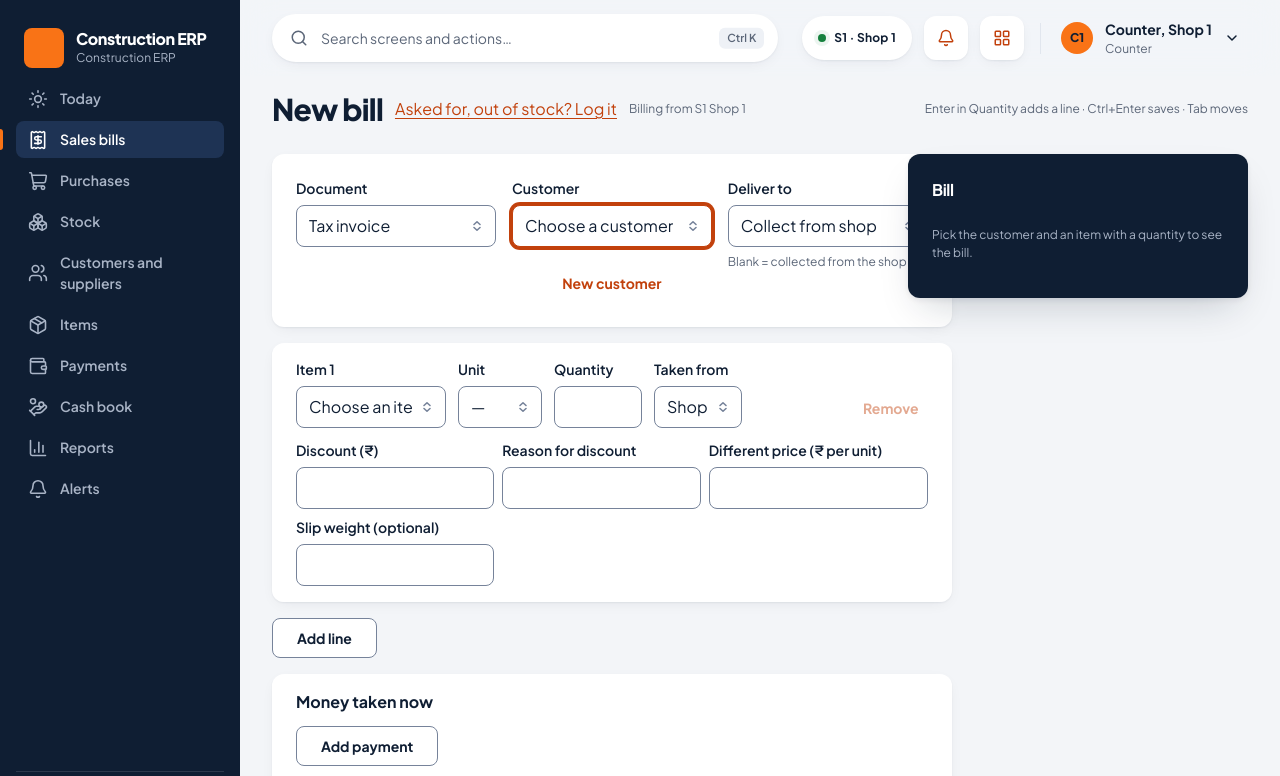
it: Quotations and proforma invoices › saves a quotation without payments, through the quotation endpoints
Select "Quotation (estimate)" in the dropdown labelled "Document" at (396, 226), box [296,205,496,247]
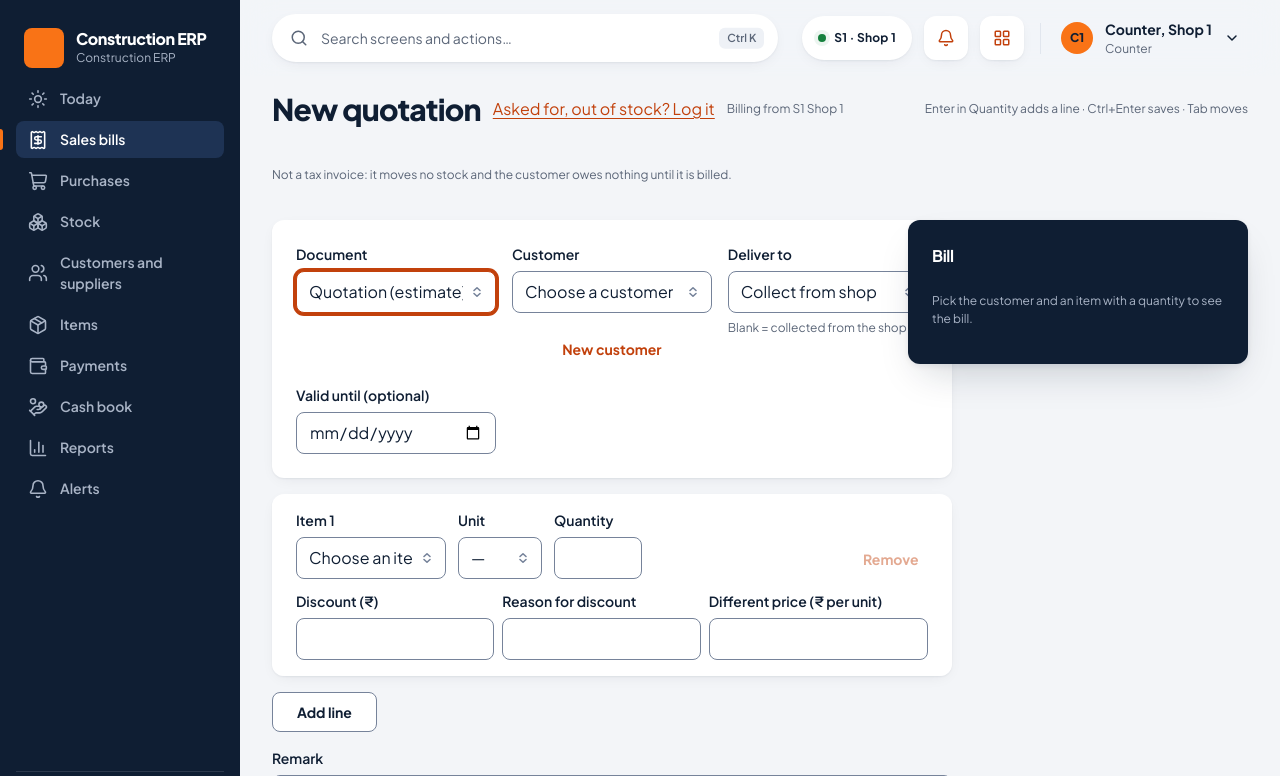
Now the heading "New quotation" is shown, box [272,92,481,126]
Now the button "Add payment" is gone
Now the label labelled "Taken from" is gone
Select "Ravi Builders" in the dropdown labelled "Customer" at (612, 292), box [512,271,712,313]
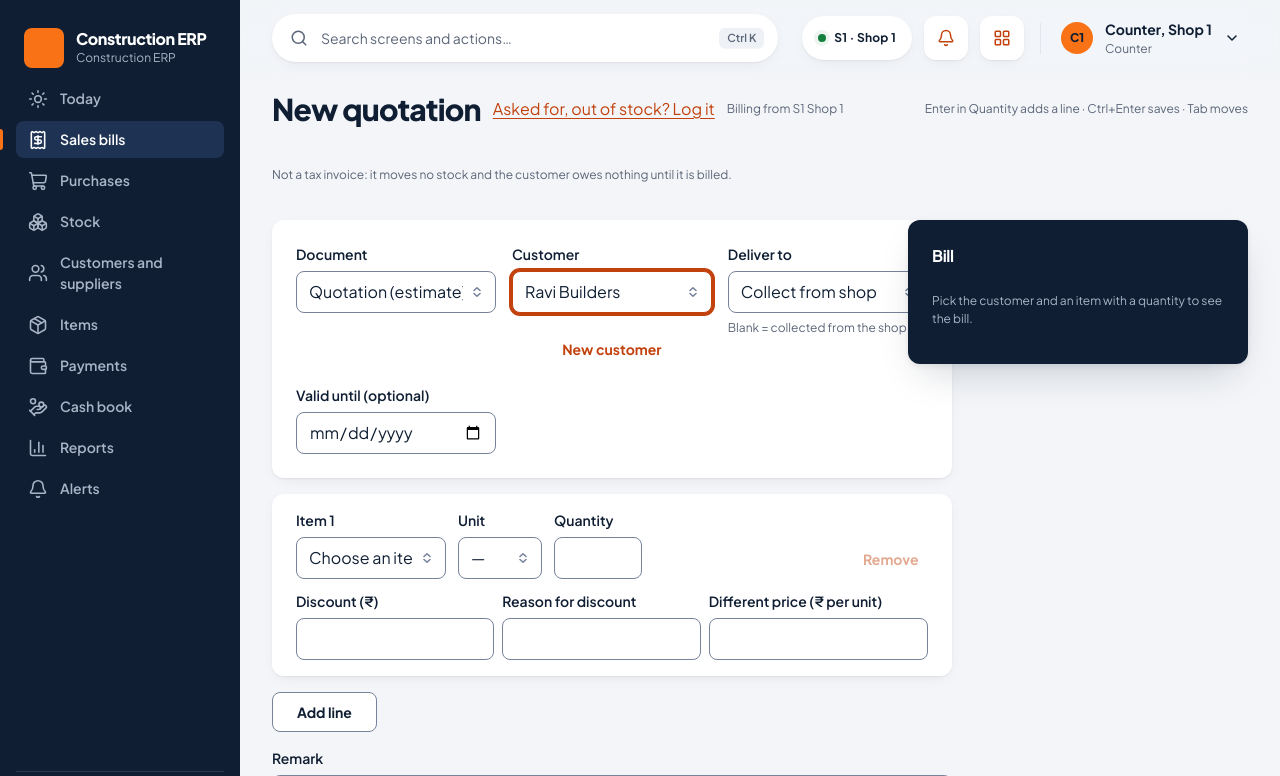
Select "TMT bar 12 mm Fe500D" in the dropdown labelled "Item 1" at (371, 558), box [296,537,446,579]
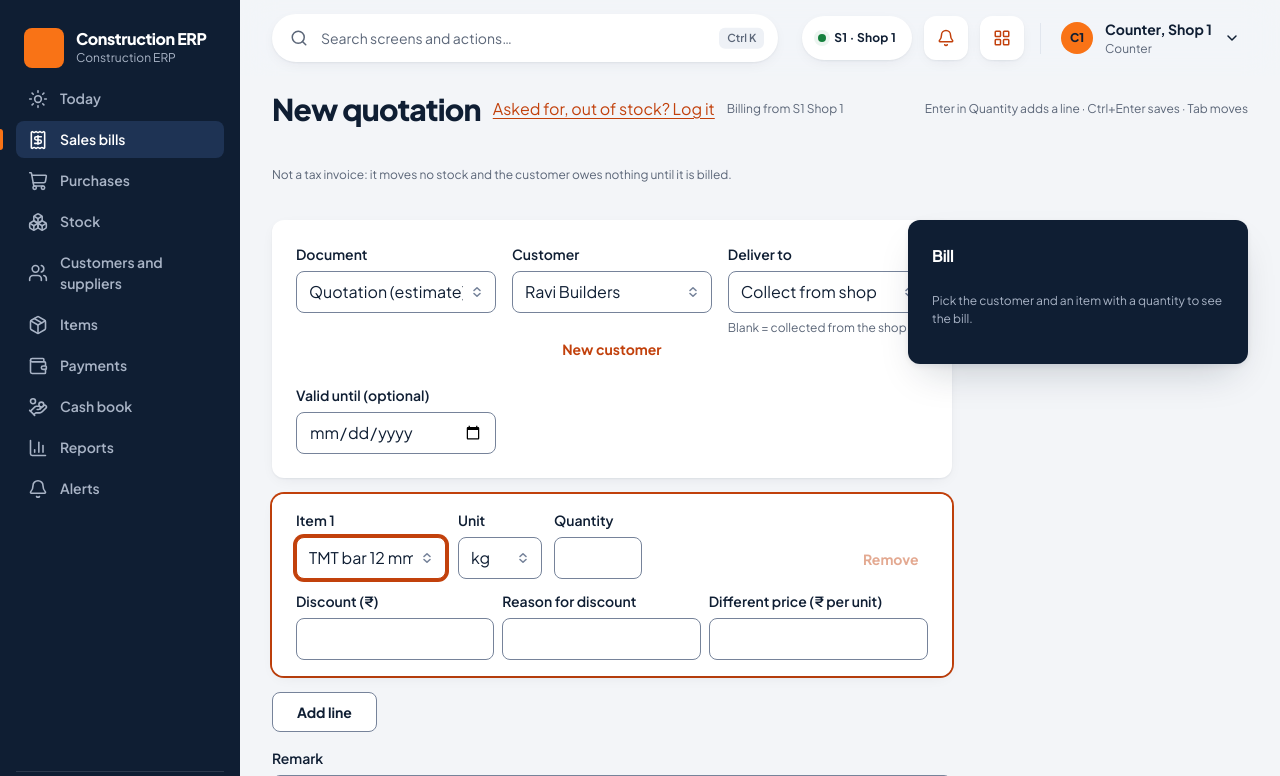
Type "1" into the field labelled "Quantity" at (598, 558), box [554,537,642,579]
(page scrolled)
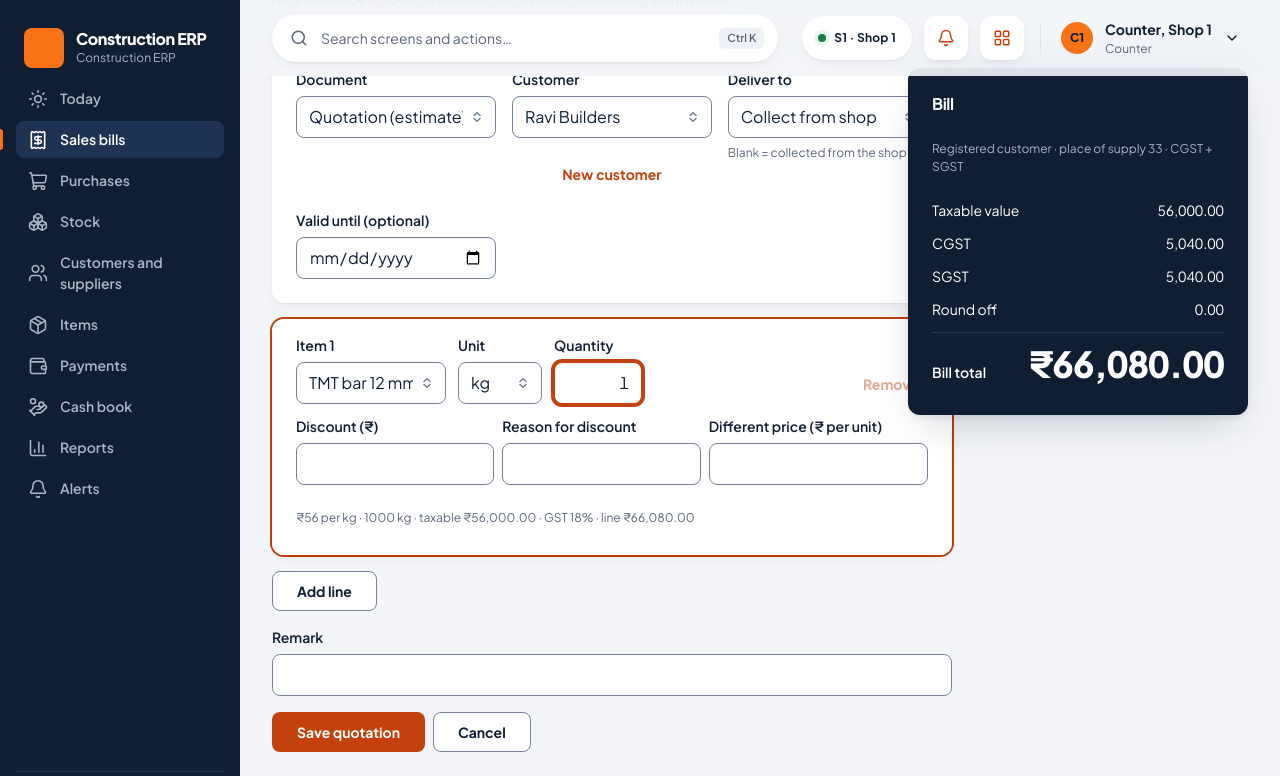
Now the text "₹66,080.00" is shown, box [1028,345,1224,383]
Click the button "Save quotation" at (348, 732), box [272,712,425,752]
(page scrolled)
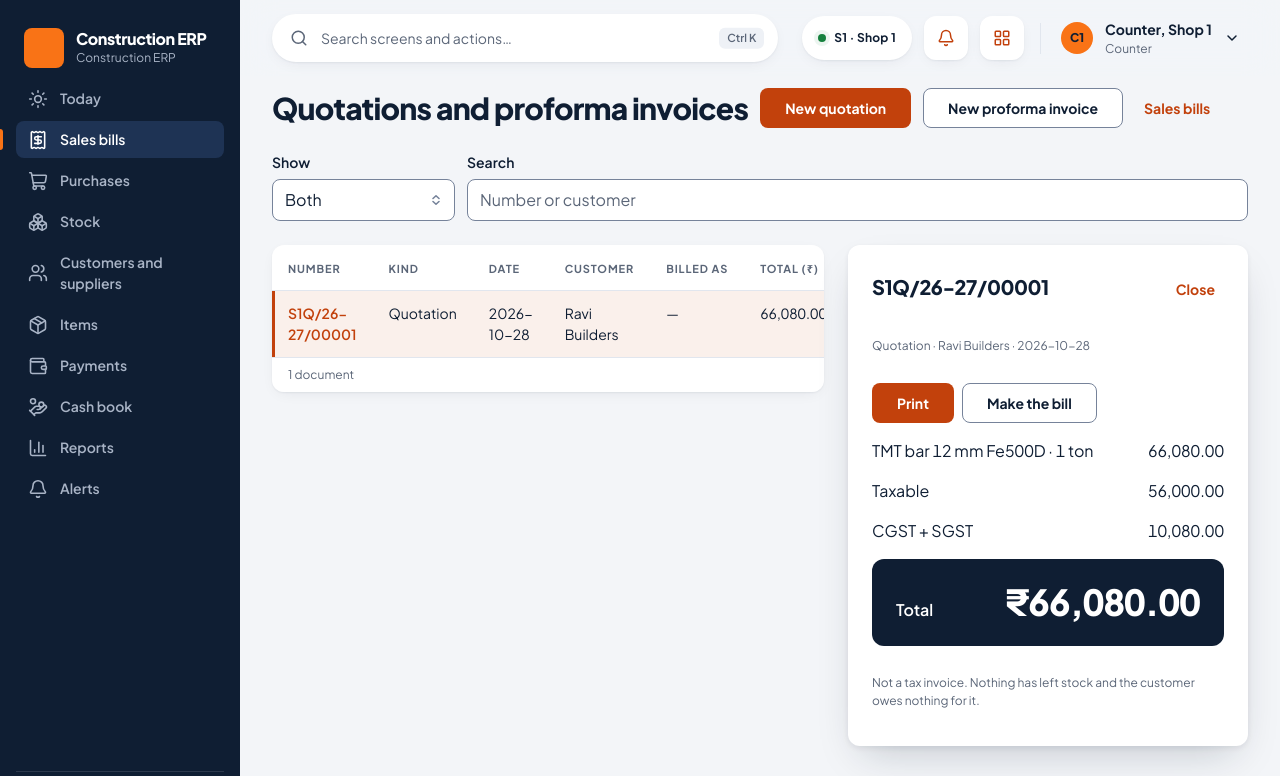
Now the element "S1Q/26-27/00001" is shown, box [848,245,1248,746]
